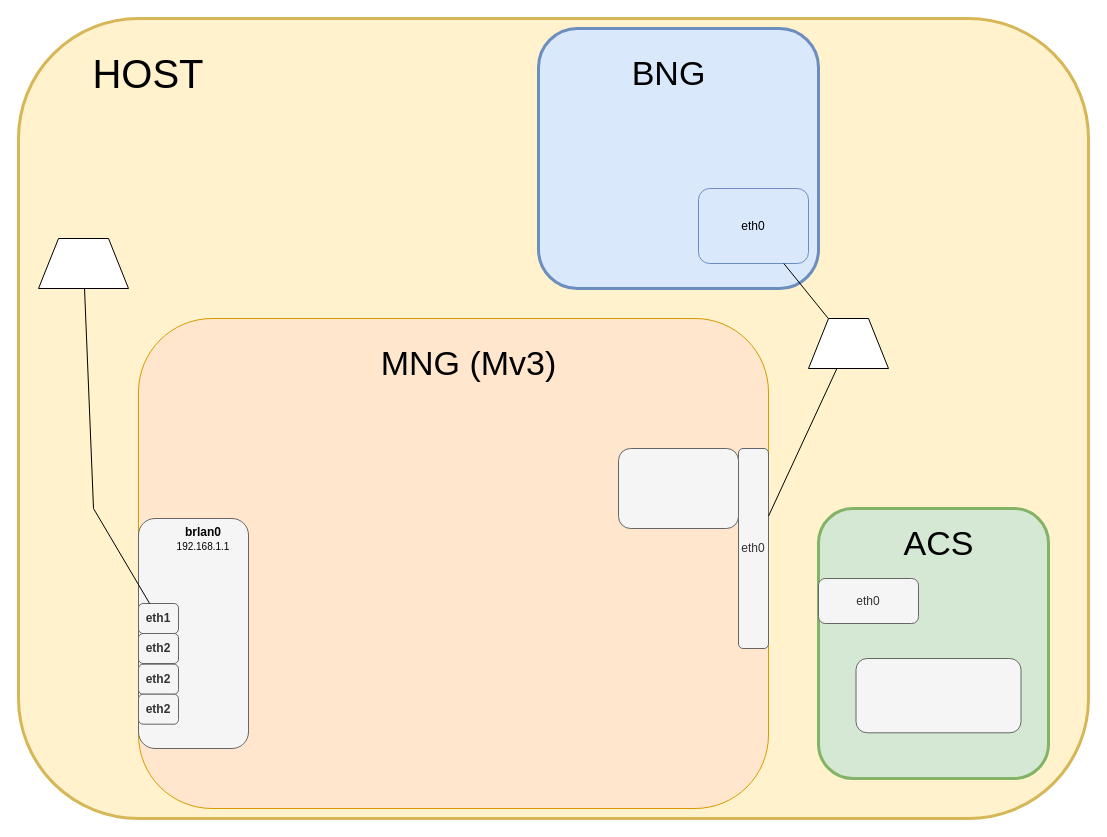
Some shapes in this 1107 by 837 pixel diagram are drawn without their labels. The centre of each missing label's shape, as x and y in pixels:
"erouter0" goes at (x=678, y=488).
"lan bridge" goes at (x=83, y=263).
"LXC-AXIROS" goes at (x=938, y=695).
"wan bridge" goes at (x=848, y=343).
